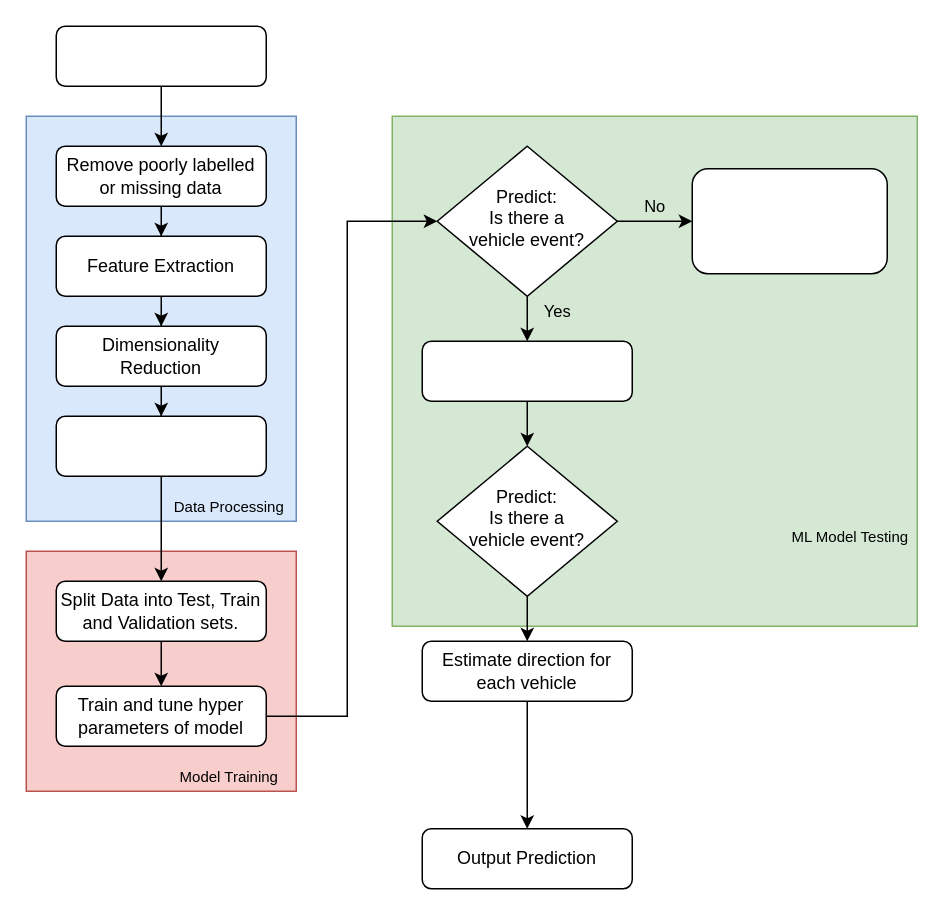
Some shapes in this 944 by 915 pixel diagram are drawn without their labels. Here are the shapes that lost their labels. From the top down, the centre of each, then its label:
the point at 160,55: Accelerometer Data
the point at 789,220: Remove predictions from input and add to separate dataset
the point at 526,370: Estimate vehicle count
the point at 160,445: Remove k-means cluster of uncertain points
